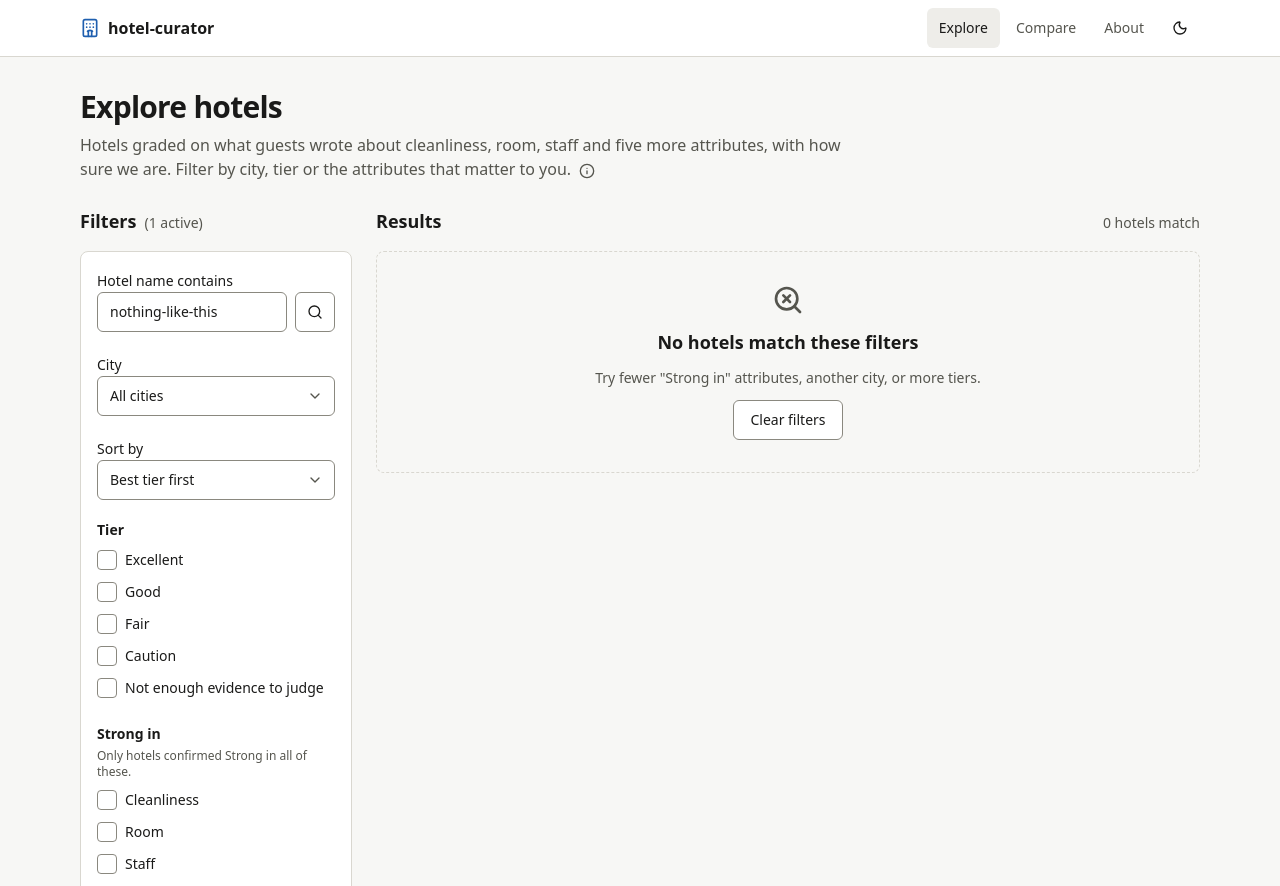
Test: Explorer page › shows an empty state with a way out
expect the text "No hotels match these filters" is shown: met, box x1=657 y1=328 x2=919 y2=356
Click the button "Clear filters" at (788,420), box x1=733 y1=400 x2=842 y2=440
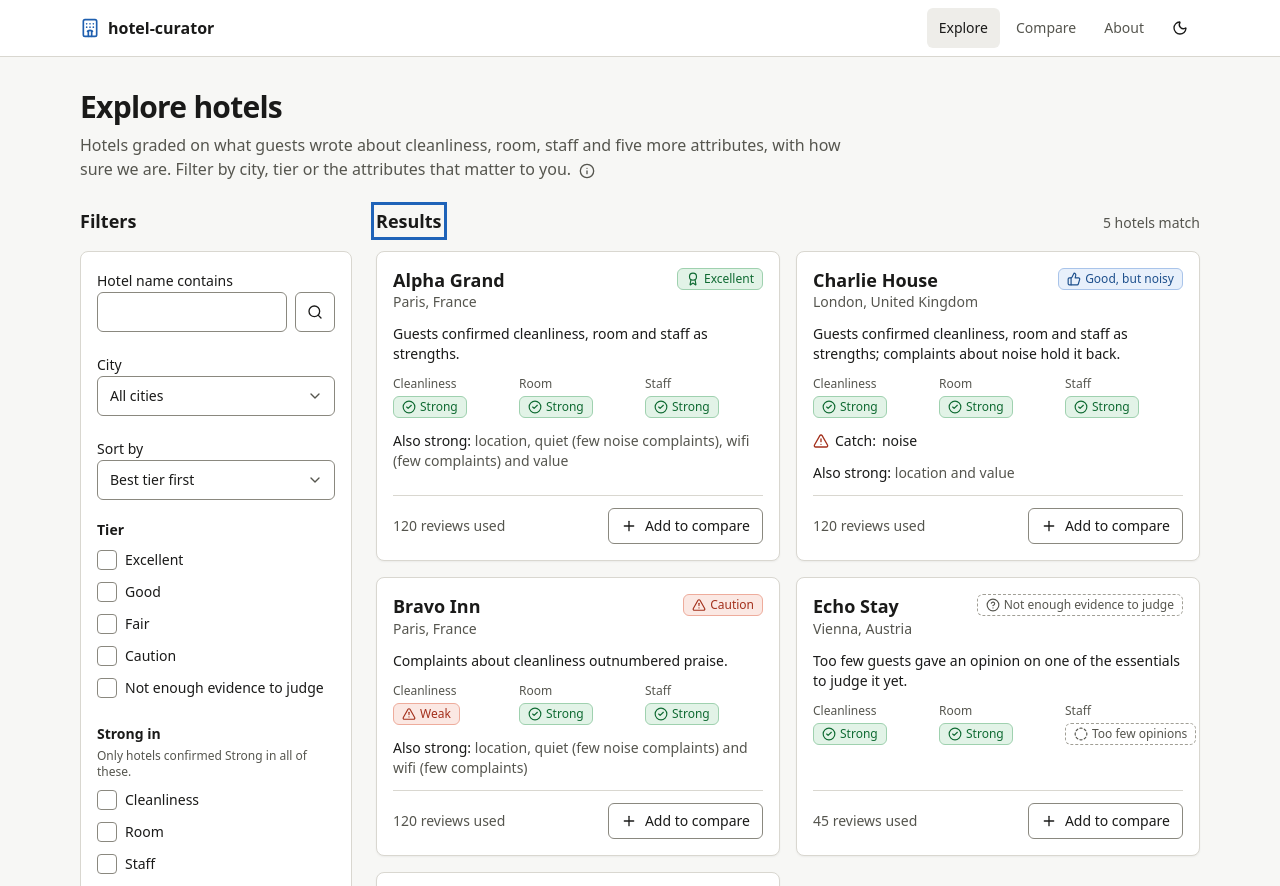
expect the element "Alpha Grand" is shown: met, box x1=377 y1=252 x2=779 y2=560
